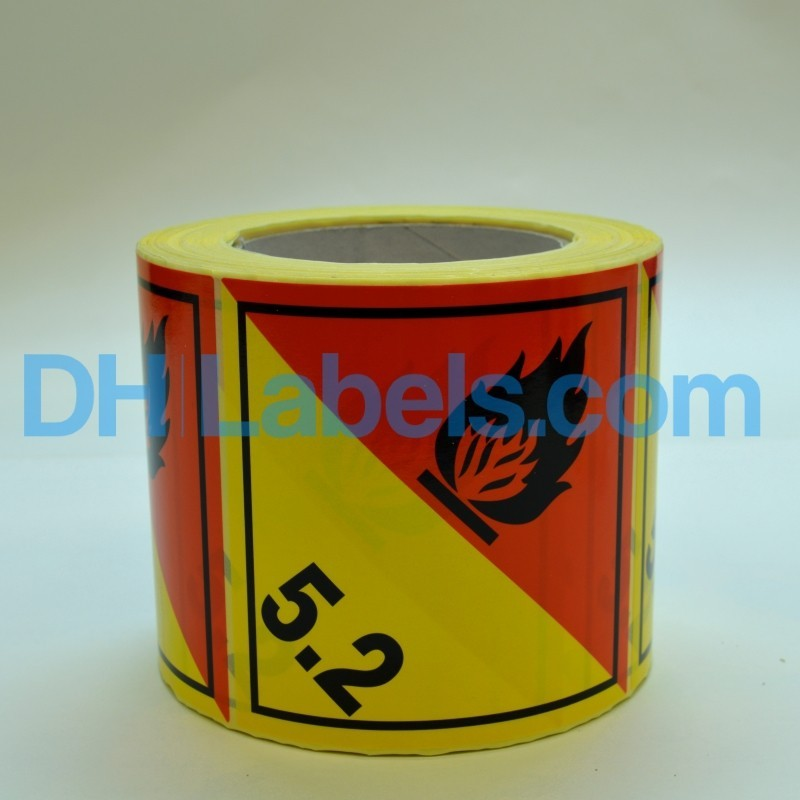OrganicPeroxide: (221, 264, 642, 758)
